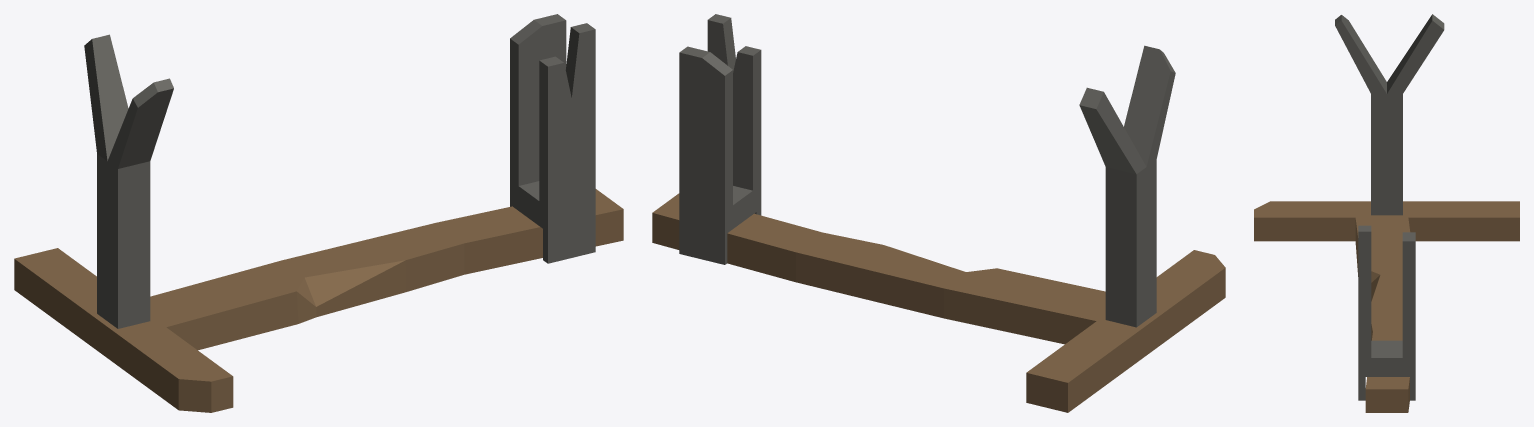
File: SM_Rack.fbx
3 views of the same model, side by side, from view 1: azimuth 30°, elevation 25°; view 2: azimuth 150°, elevation 25°; view 3: azimuth 270°, elevation 25° (orthographic). The views are drawn at different scales.
Parts seen in each view (by area): view 1: SM_Rack; view 2: SM_Rack; view 3: SM_Rack.
Part boxes in pixels (box(x1,y1,x2,y2)): SM_Rack: box(14, 14, 623, 412); SM_Rack: box(652, 14, 1225, 412); SM_Rack: box(1254, 14, 1519, 412).
Size of the model in its own units: 69.16 by 37.52 by 41.36.
